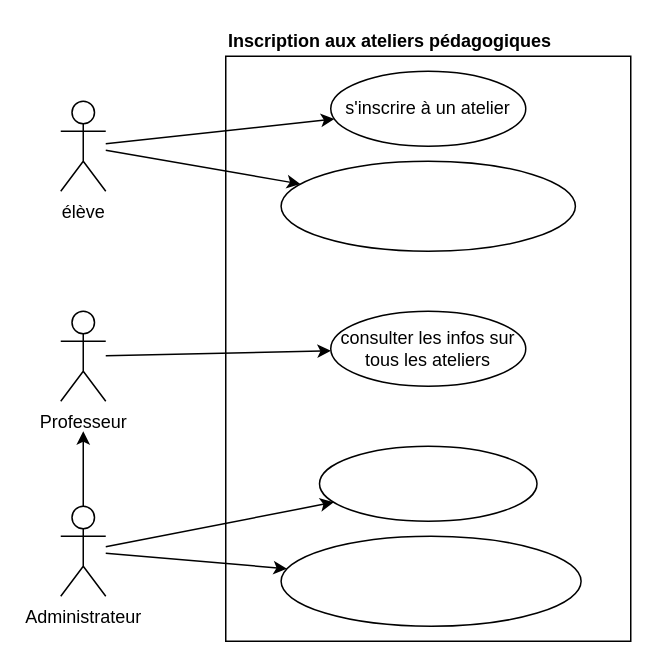
This 657x668 diagram has some shape labels left out. Here are the shapes that lost their labels. From the top down, the box of each, then its label:
(280, 160, 575, 251): consulter les infos personnelles sur les inscriptions aux ateliers
(318, 445, 537, 521): ajouter, modifier, supprimer des ateliers
(280, 535, 581, 626): générer un PDF récapitulatif de la campagne choisi
